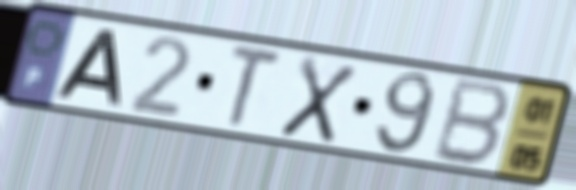2: (123, 34, 194, 120)
9: (371, 69, 440, 157)
A: (52, 26, 125, 111)
B: (428, 74, 517, 171)
T: (226, 42, 286, 132)
X: (274, 52, 361, 148)
